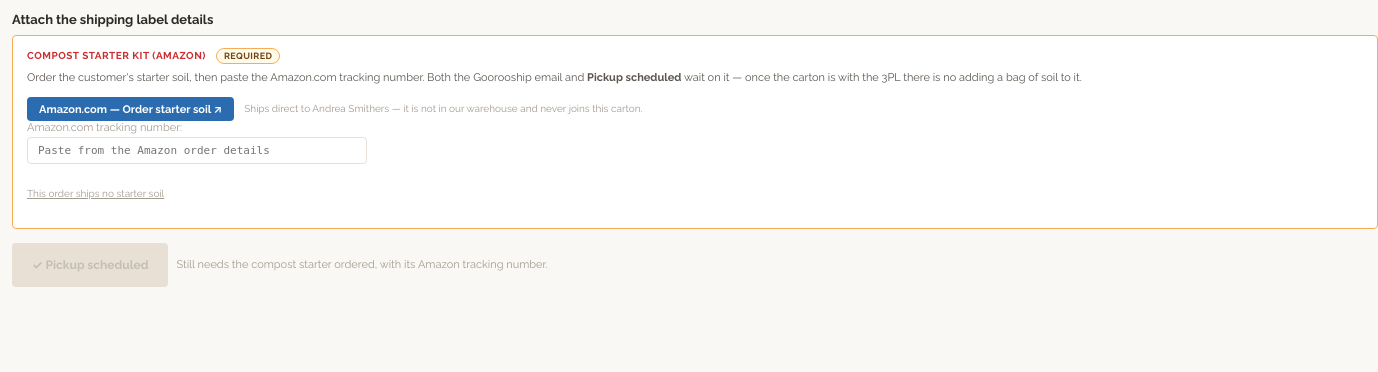
StepLabel — an order that ships no starter is not stranded › lets a sale through on a declared exemption, with a reason
Click the button "This order ships no starter soil" at [96, 194], box 27,172 -> 164,216
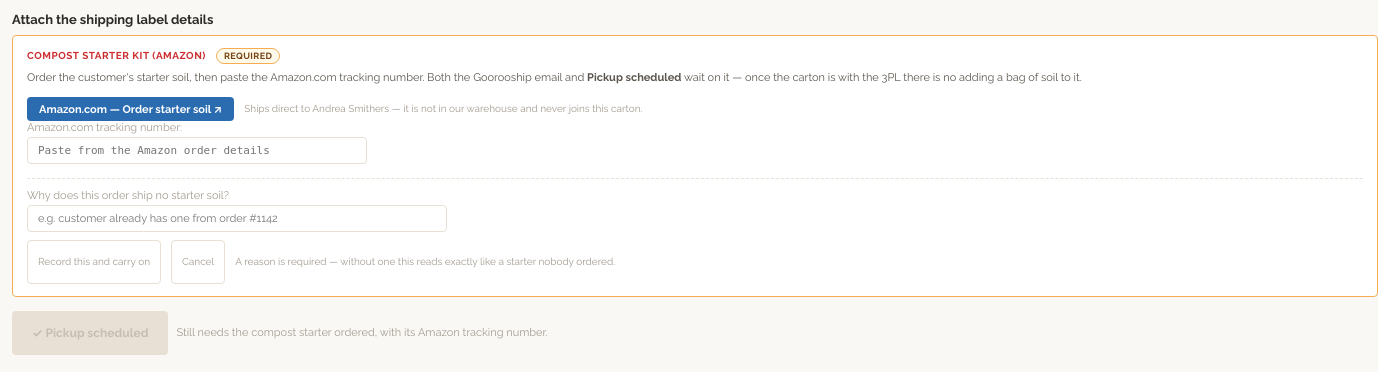
Type "customer already has one from #1142" into the field with test id "starter-skip-reason" at [237, 218], box 27,204 -> 447,232
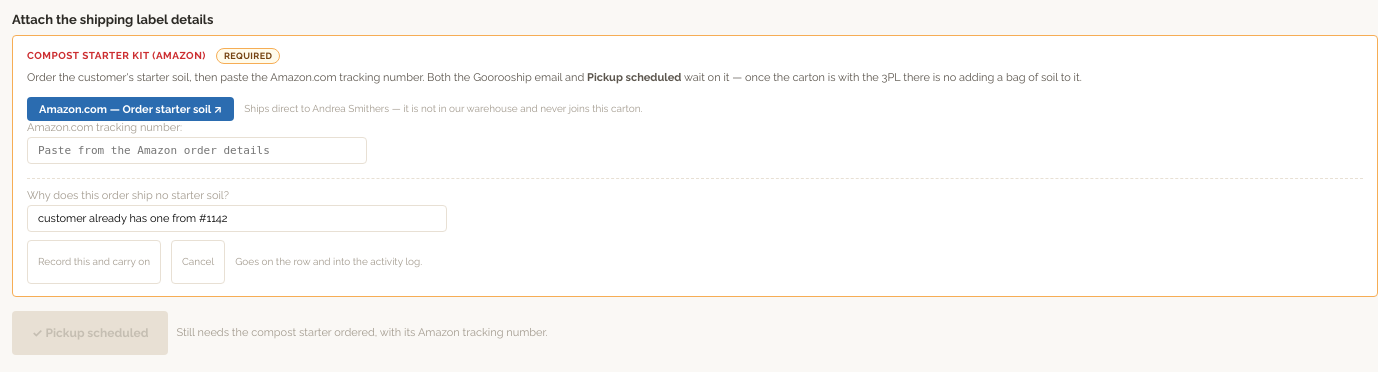
Click the button "Record this and carry on" at [94, 262], box 27,240 -> 161,284
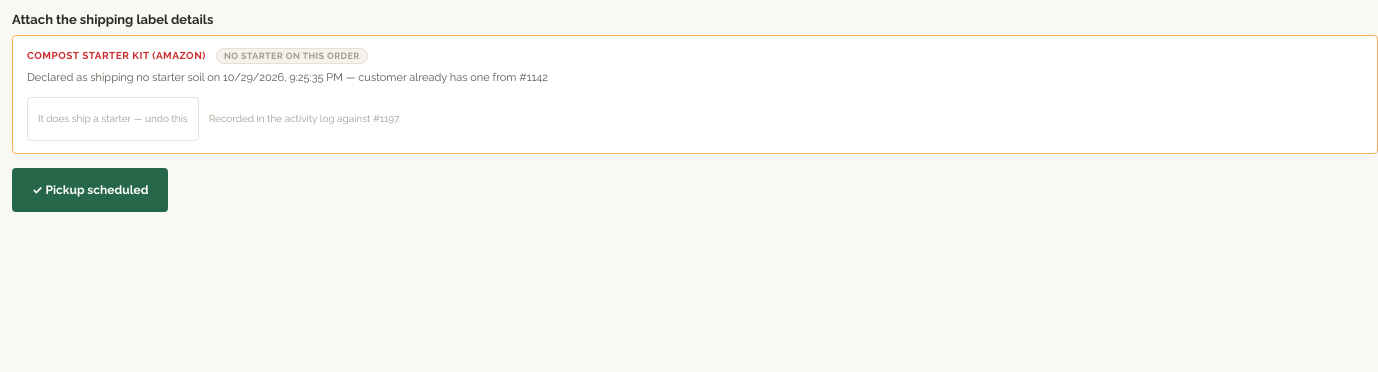
Result: the button "✓ Pickup scheduled" is enabled at 12,168 -> 168,212
